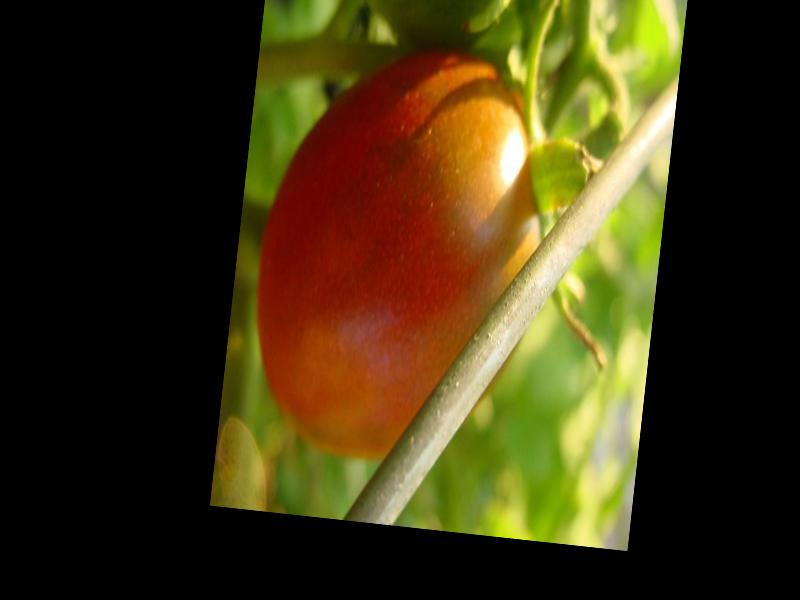Tomato: (241, 37, 558, 468)
